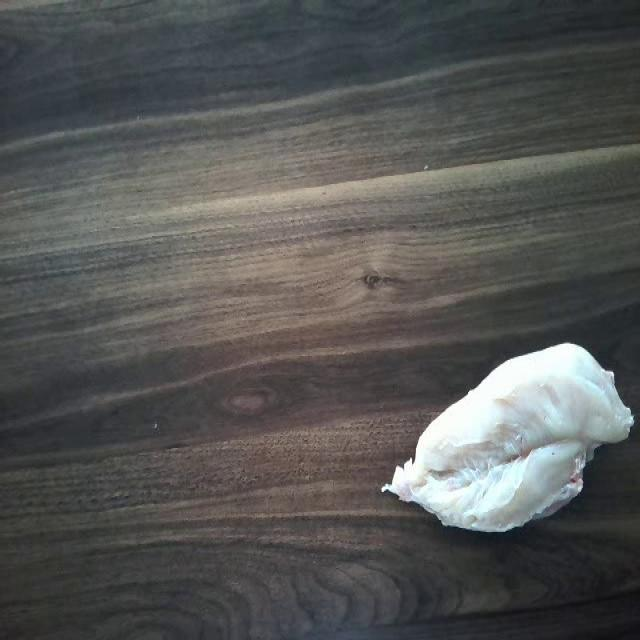breast: (388, 336, 632, 534)
